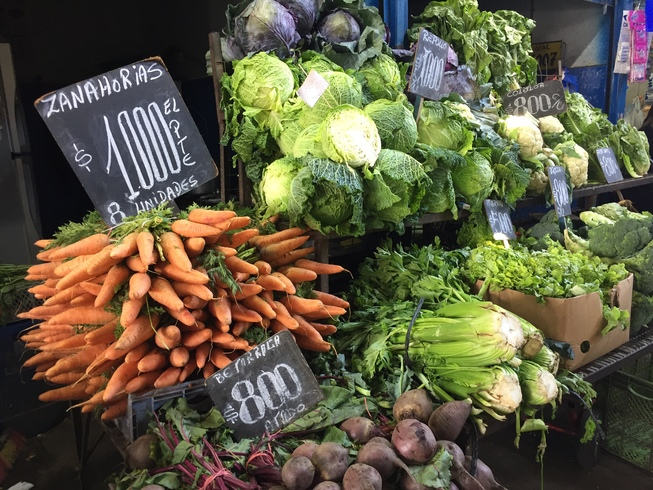precio: (37, 56, 221, 239), (210, 334, 335, 457), (497, 78, 582, 129), (406, 27, 461, 100), (545, 162, 577, 223), (593, 141, 625, 189), (488, 197, 519, 245)
